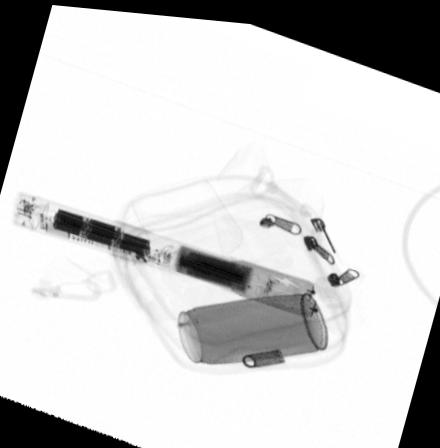Baton: (11, 190, 321, 315)
